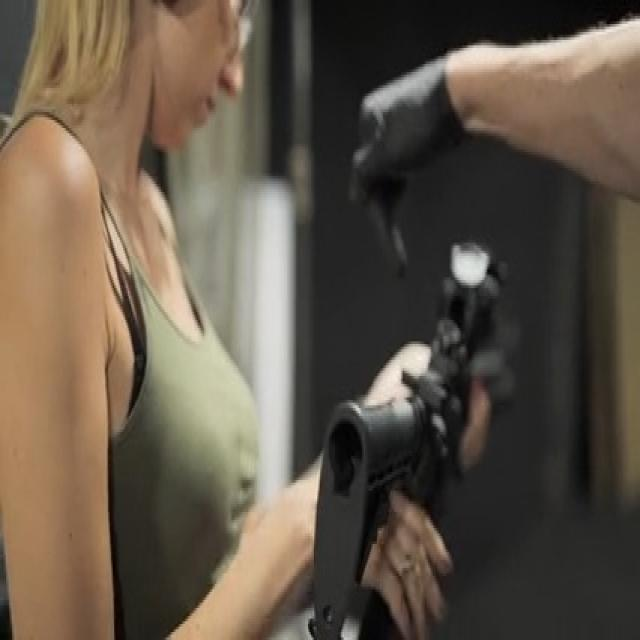Gun_Holder: (308, 226, 557, 640)
Person: (0, 0, 450, 640)
